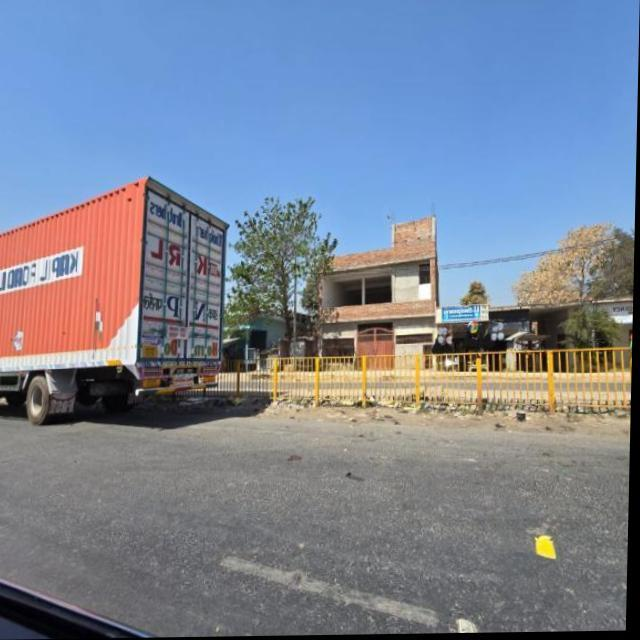covered: (1, 185, 226, 431)
